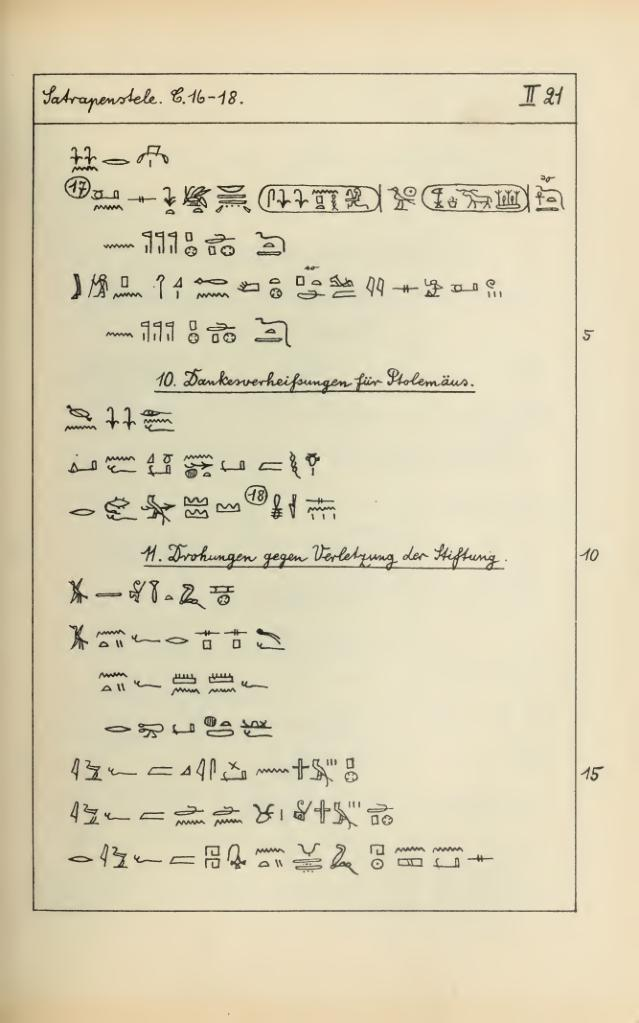circle: (251, 167, 388, 240), (412, 173, 537, 233)
